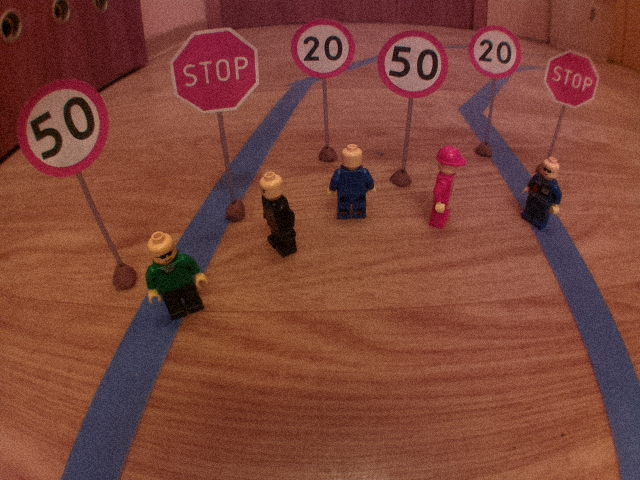LEGO_person: (138, 229, 212, 320), (253, 170, 304, 260), (327, 141, 377, 223), (518, 153, 565, 235), (427, 142, 469, 230)
ogr_20: (289, 15, 357, 79), (466, 24, 523, 79)
ogr_50: (10, 78, 111, 177), (376, 29, 450, 99)
stop: (167, 26, 261, 115), (541, 47, 602, 110)
